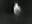person: (14, 4, 24, 19)
